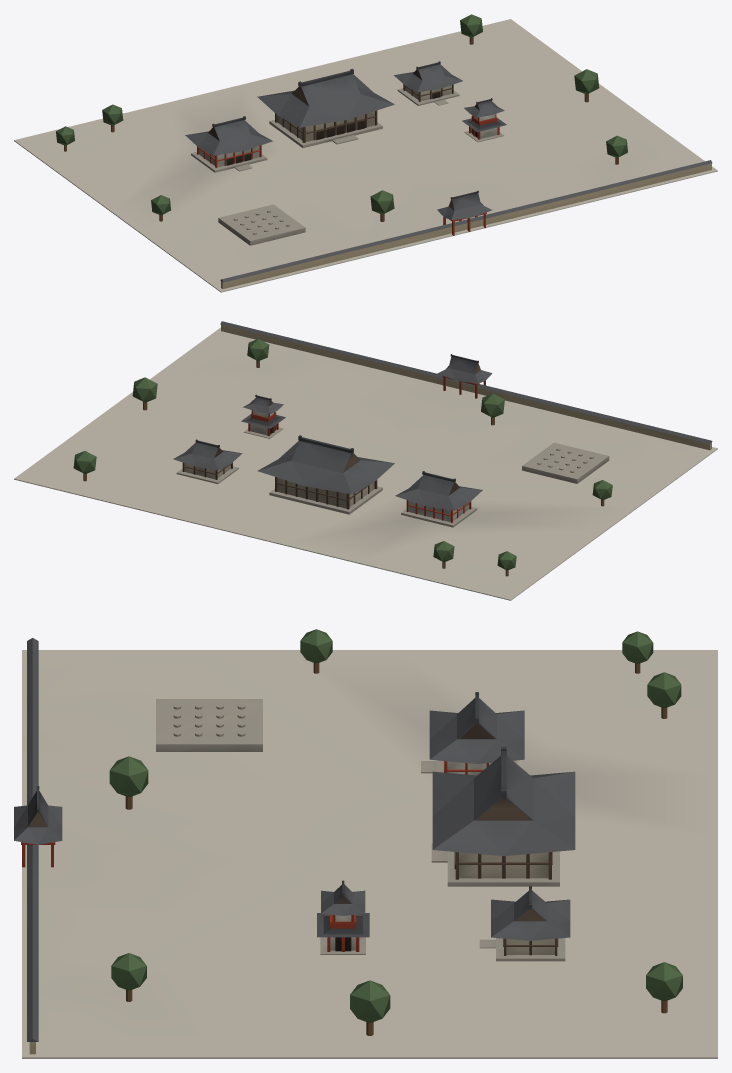
The model's file is saidaiji.glb.
3 views of the same model, one above another, from view 1: azimuth 30°, elevation 25°; view 2: azimuth 150°, elevation 25°; view 3: azimuth 270°, elevation 25° (orthographic). The views are drawn at different scales.
Visible parts, largest first — view 1: p0_grounds, p2_roofs, p1_halls; view 2: p0_grounds, p2_roofs, p1_halls; view 3: p0_grounds, p2_roofs, p1_halls.
Part boxes in pixels (left/top/right/bottom): p0_grounds: left=14, top=19, right=717, bottom=292; p2_roofs: left=56, top=14, right=627, bottom=221; p1_halls: left=191, top=84, right=504, bottom=235; p0_grounds: left=14, top=321, right=717, bottom=600; p2_roofs: left=73, top=339, right=612, bottom=576; p1_halls: left=176, top=354, right=593, bottom=527; p0_grounds: left=22, top=638, right=717, bottom=1058; p2_roofs: left=109, top=629, right=682, bottom=1035; p1_halls: left=14, top=704, right=565, bottom=961.
Size of the model in its own units: 180 by 17.72 by 132.
